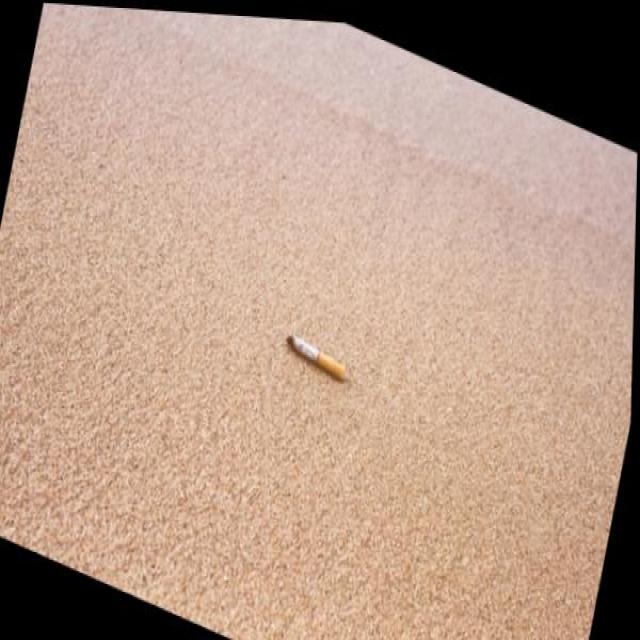cigarette: (283, 321, 354, 383)
